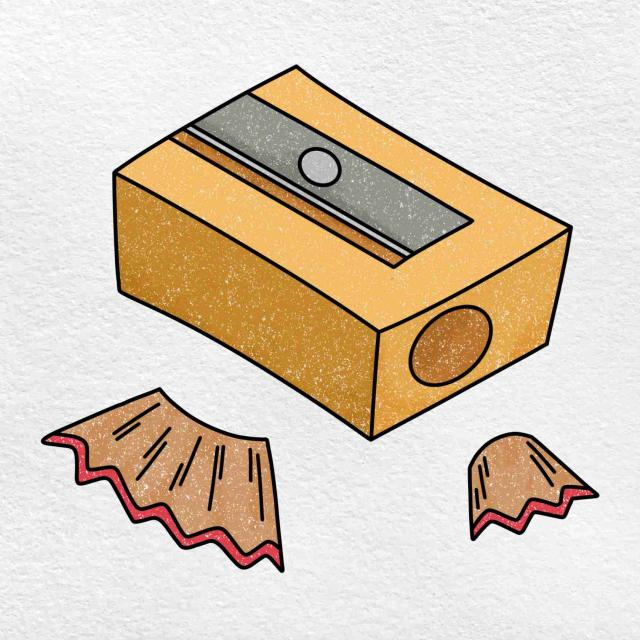pencil_sharpener: (80, 54, 610, 436)
